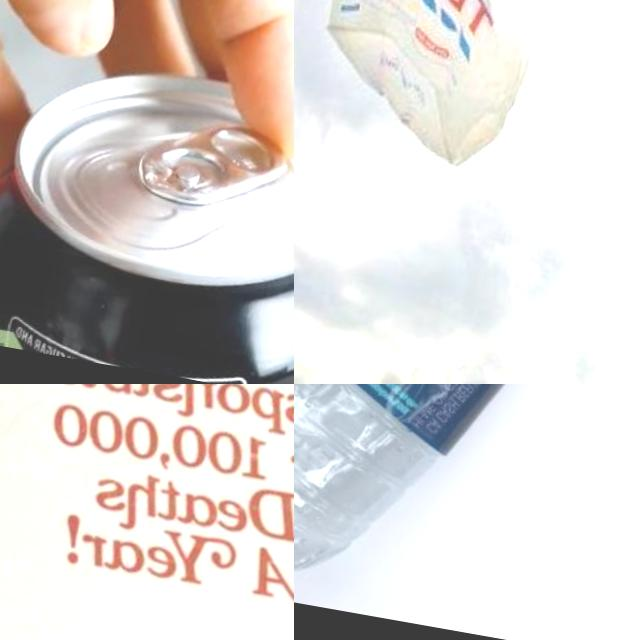aba de lata: (126, 108, 294, 219)
garrafa plástica: (294, 384, 614, 617)
lata: (0, 52, 294, 384)
sacola plástica: (0, 384, 294, 640), (294, 0, 583, 192)
